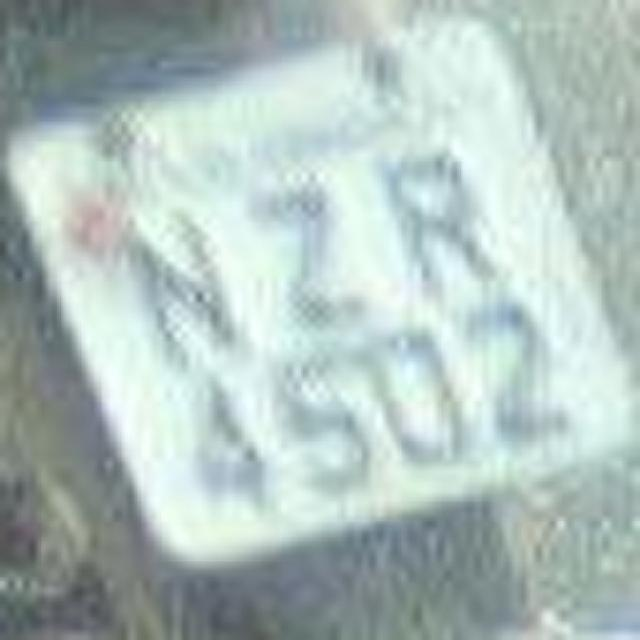0: (352, 300, 500, 488)
2: (444, 272, 588, 456)
4: (172, 356, 296, 544)
5: (255, 332, 400, 512)
N: (109, 200, 256, 380)
R: (365, 128, 520, 304)
Z: (231, 155, 384, 340)
